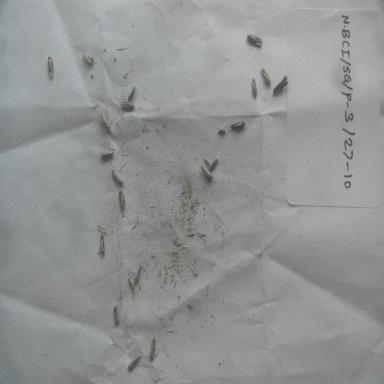pbw: (99, 110, 118, 138), (272, 68, 288, 100), (42, 55, 60, 83), (146, 336, 158, 362), (95, 234, 109, 256), (246, 32, 265, 48), (116, 189, 128, 212), (260, 67, 275, 85), (81, 50, 97, 66), (127, 355, 142, 372), (229, 118, 247, 132), (250, 75, 260, 100), (200, 164, 214, 180), (110, 168, 124, 184), (99, 150, 116, 162), (112, 306, 122, 326), (120, 100, 136, 112), (206, 156, 220, 169), (216, 125, 229, 139), (133, 265, 142, 283), (126, 85, 136, 101)
